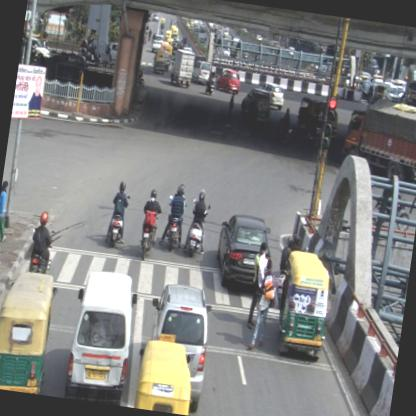car: (63, 266, 138, 405), (138, 282, 216, 412), (211, 211, 276, 293)
motorcycle: (160, 178, 191, 252), (136, 186, 164, 262), (185, 188, 212, 258), (106, 178, 130, 247)
truck: (340, 92, 415, 187), (403, 64, 415, 110)
